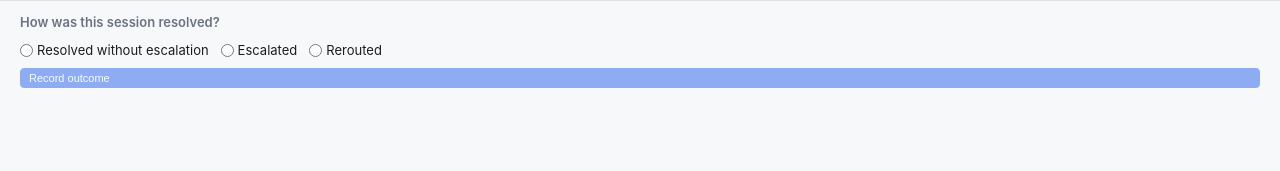
Test: OutcomeWidget › shows target team input for Escalated
Click the radio button with test id "resolution-Escalated" at point(227, 50), box 221,44 -> 234,57
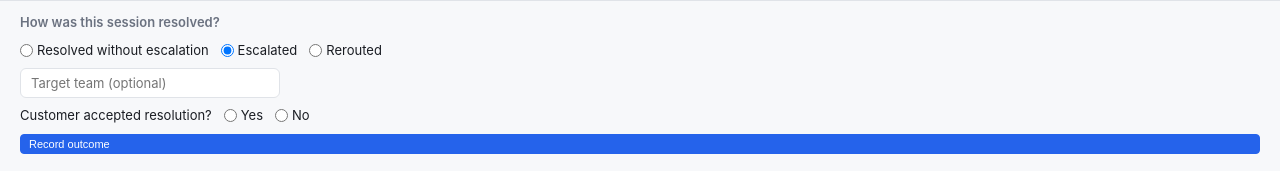
Now the field with test id "outcome-target-team" is shown, box 20,68 -> 280,98
